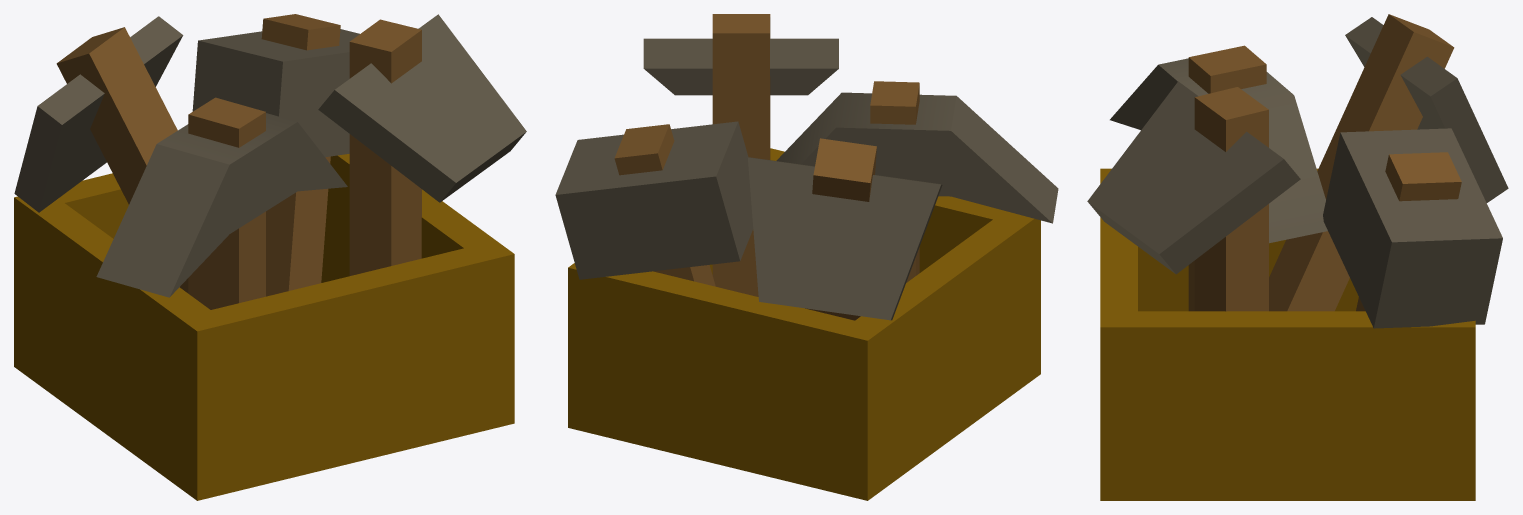
Rendered from toolsfree.fbx.
The picture shows the model from 3 angles, left to right: view 1: azimuth 30°, elevation 25°; view 2: azimuth 150°, elevation 25°; view 3: azimuth 270°, elevation 25°; orthographic projection. The views are drawn at different scales.
Visible parts, largest first — view 1: tools; view 2: tools; view 3: tools.
Boxes of the visible parts, <box> form: tools: <box>14,14,526,500</box>; tools: <box>555,14,1058,500</box>; tools: <box>1087,14,1508,500</box>.
Size of the model in its own units: 0.1501 by 0.1232 by 0.1287.
